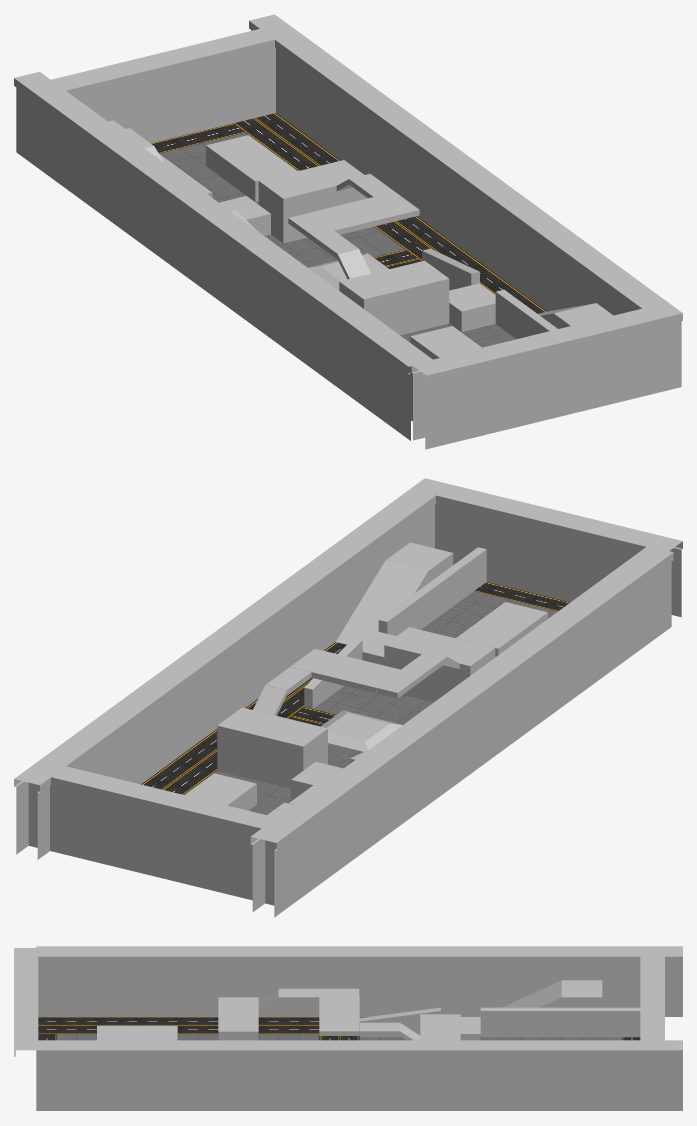
File: scen01.fbx
3 views of the same model, one above another, from view 1: azimuth 30°, elevation 25°; view 2: azimuth 150°, elevation 25°; view 3: azimuth 270°, elevation 25° (orthographic). The views are drawn at different scales.
Parts seen in each view (by area): view 1: pCube55; view 2: pCube55; view 3: pCube55.
Boxes of the visible parts, x1,y1,x2,y2 form: pCube55: (14,14,682,449); pCube55: (14,478,682,917); pCube55: (14,946,682,1110).
Bounding box in the file's own units: 244 × 66.92 × 662.
